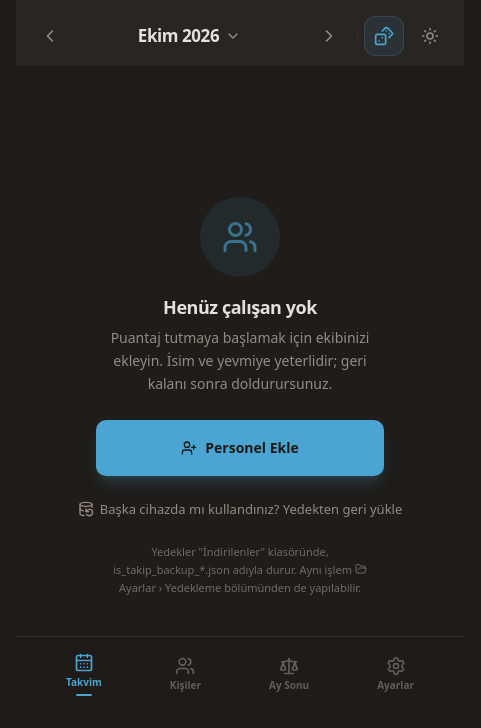
Test: App geri navigasyonu › kök ekranda Escape ekran değiştirmez, çıkış uyarısı verir
expect the navigation bar named "Ana menü" is shown: met, box 16,636 -> 464,727
Click the button "Kişiler" at (185, 674), box 156,648 -> 215,701
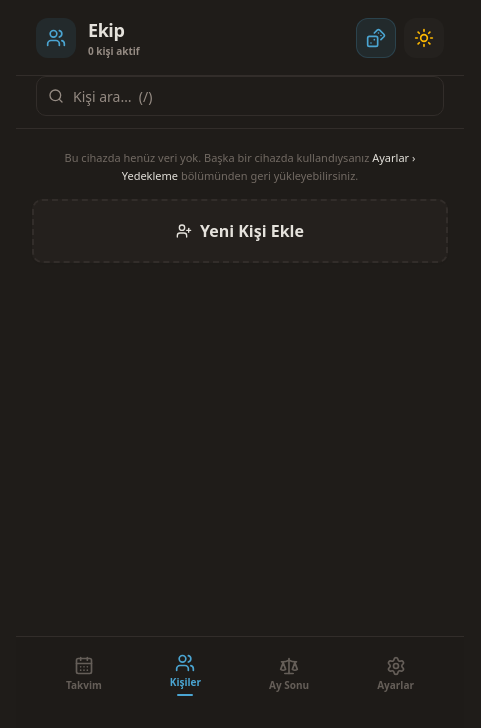
Press Escape
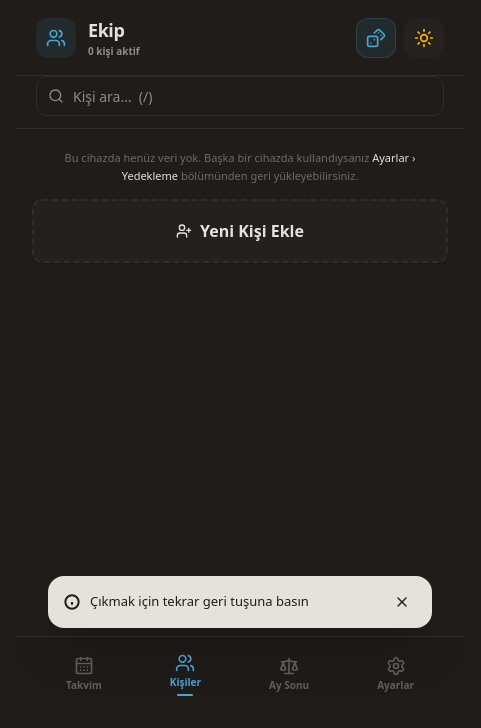
expect the heading "Ekip" is shown: met, box 88,18 -> 124,42
expect the text "Çıkmak için tekrar geri tuşuna basın" is shown: met, box 90,592 -> 309,610
